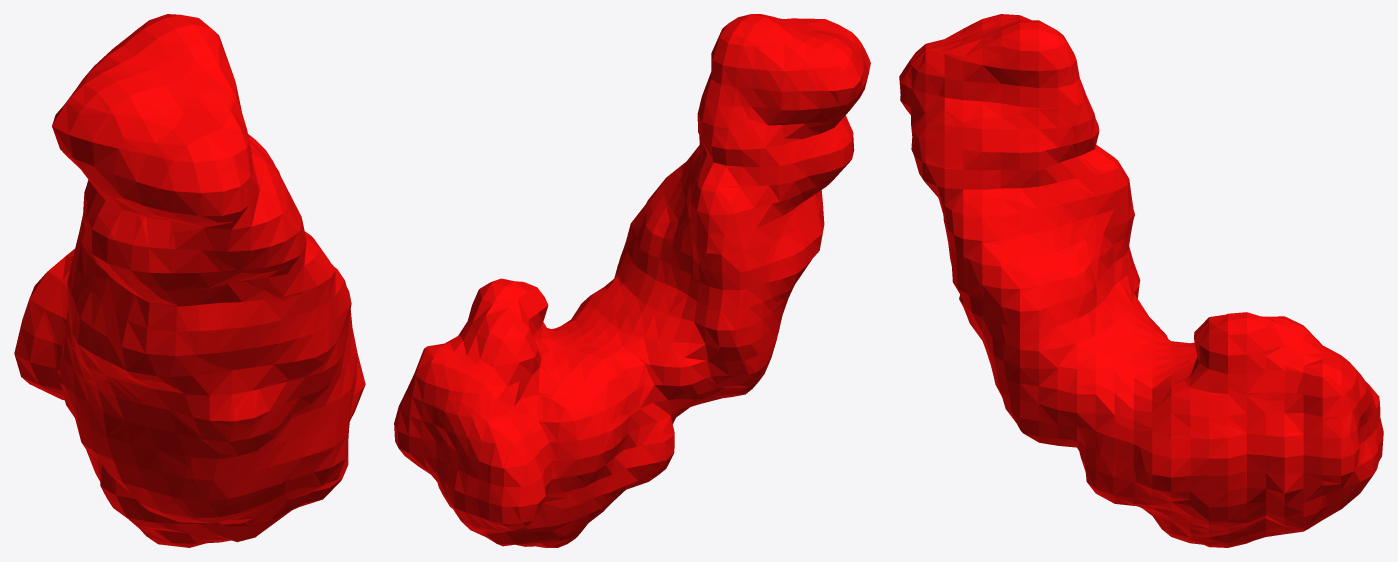
The model's file is ydhQ_coarse.dae.
3 views of the same model, side by side, from view 1: azimuth 30°, elevation 25°; view 2: azimuth 150°, elevation 25°; view 3: azimuth 270°, elevation 25° (orthographic). The views are drawn at different scales.
Parts seen in each view (by area): view 1: ydhQ; view 2: ydhQ; view 3: ydhQ.
Boxes of the visible parts, x1,y1,x2,y2 form: ydhQ: [14, 14, 365, 547]; ydhQ: [394, 14, 870, 547]; ydhQ: [899, 14, 1383, 547].
Size of the model in its own units: 57.05 by 86.45 by 80.6.
